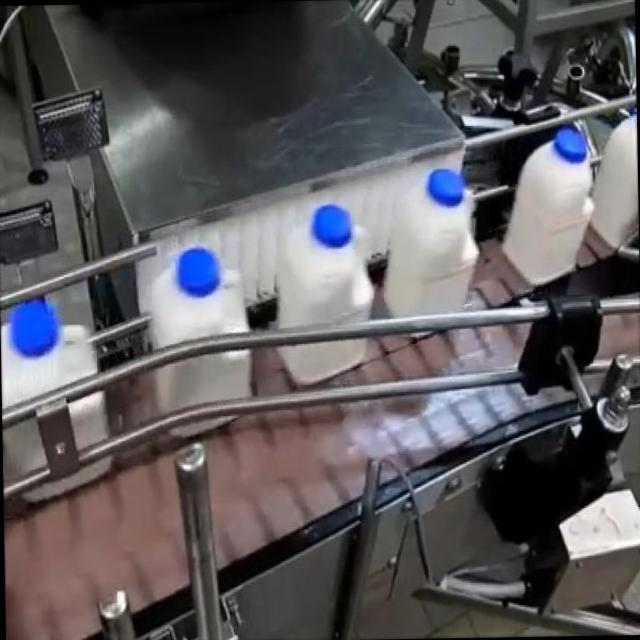milk: (126, 235, 259, 435), (276, 192, 388, 409), (2, 298, 92, 494), (404, 158, 486, 324), (526, 118, 602, 296)
